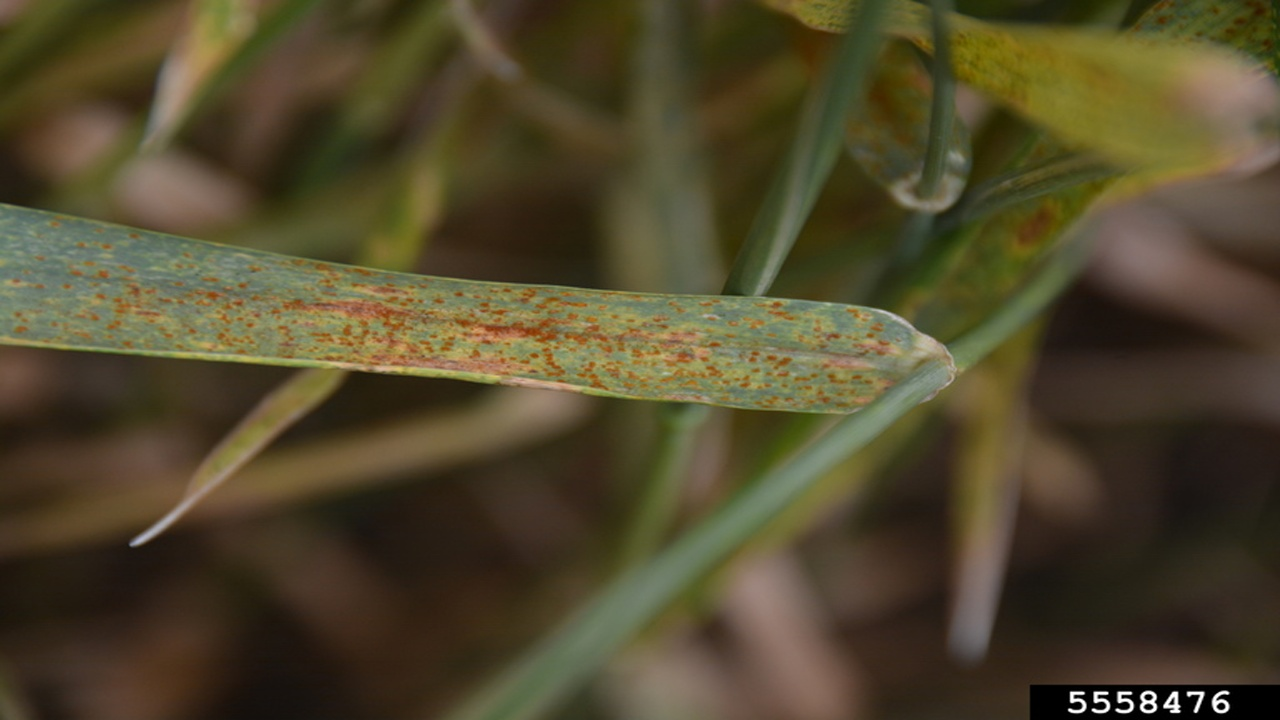leaf_rust: (1, 201, 953, 413), (944, 175, 1122, 319), (1119, 1, 1279, 39)
